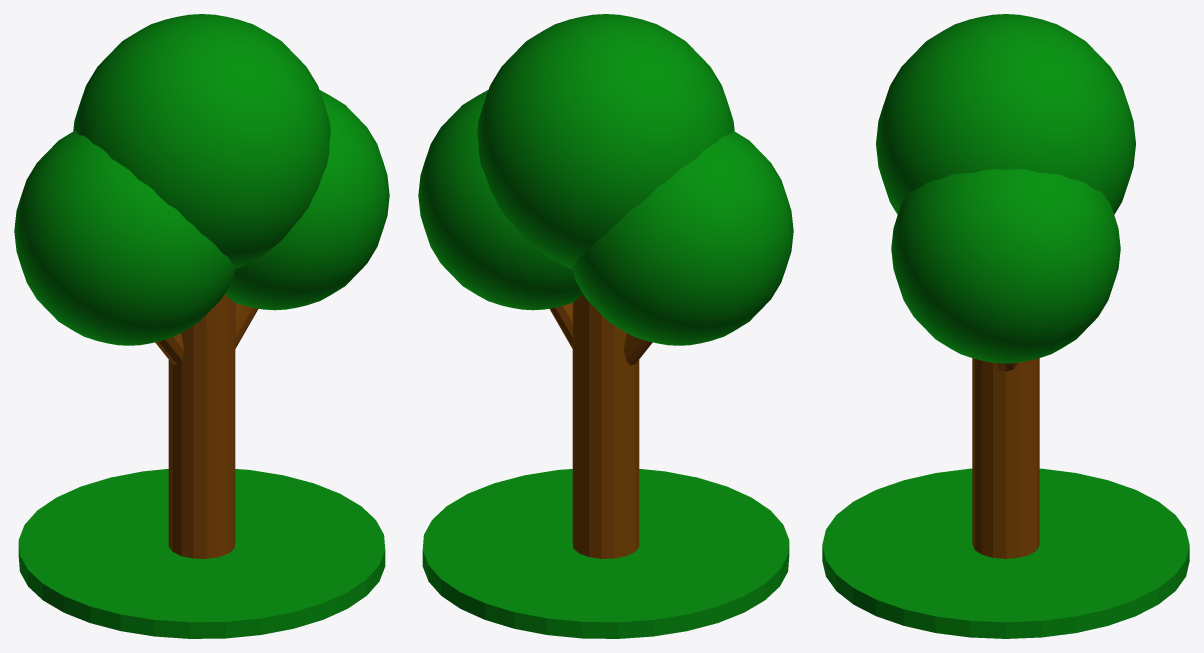
Rendered from tree.glb.
3 views of the same model, side by side, from view 1: azimuth 30°, elevation 25°; view 2: azimuth 150°, elevation 25°; view 3: azimuth 270°, elevation 25° (orthographic).
Parts seen in each view (by area): view 1: Ground Base, Top Leaves, Left Leaves, Right Leaves, Tree Trunk, Right Branch, Left Branch; view 2: Ground Base, Top Leaves, Left Leaves, Right Leaves, Tree Trunk, Right Branch, Left Branch; view 3: Ground Base, Top Leaves, Right Leaves, Tree Trunk.
Part boxes in pixels (x1,y1,x2,y2): Ground Base: (18, 469, 385, 638); Top Leaves: (73, 14, 330, 268); Left Leaves: (14, 130, 236, 345); Right Leaves: (225, 90, 389, 310); Tree Trunk: (168, 294, 235, 558); Right Branch: (235, 303, 258, 348); Left Branch: (155, 333, 183, 365); Ground Base: (422, 469, 789, 638); Top Leaves: (477, 14, 734, 268); Left Leaves: (571, 130, 793, 345); Right Leaves: (418, 90, 582, 310); Tree Trunk: (572, 294, 639, 558); Right Branch: (549, 303, 572, 348); Left Branch: (624, 333, 652, 365); Ground Base: (822, 468, 1189, 638); Top Leaves: (876, 14, 1135, 214); Right Leaves: (891, 169, 1120, 363); Tree Trunk: (972, 358, 1039, 558).
Size of the model in its own units: 2.6 by 3.86 by 2.4.
